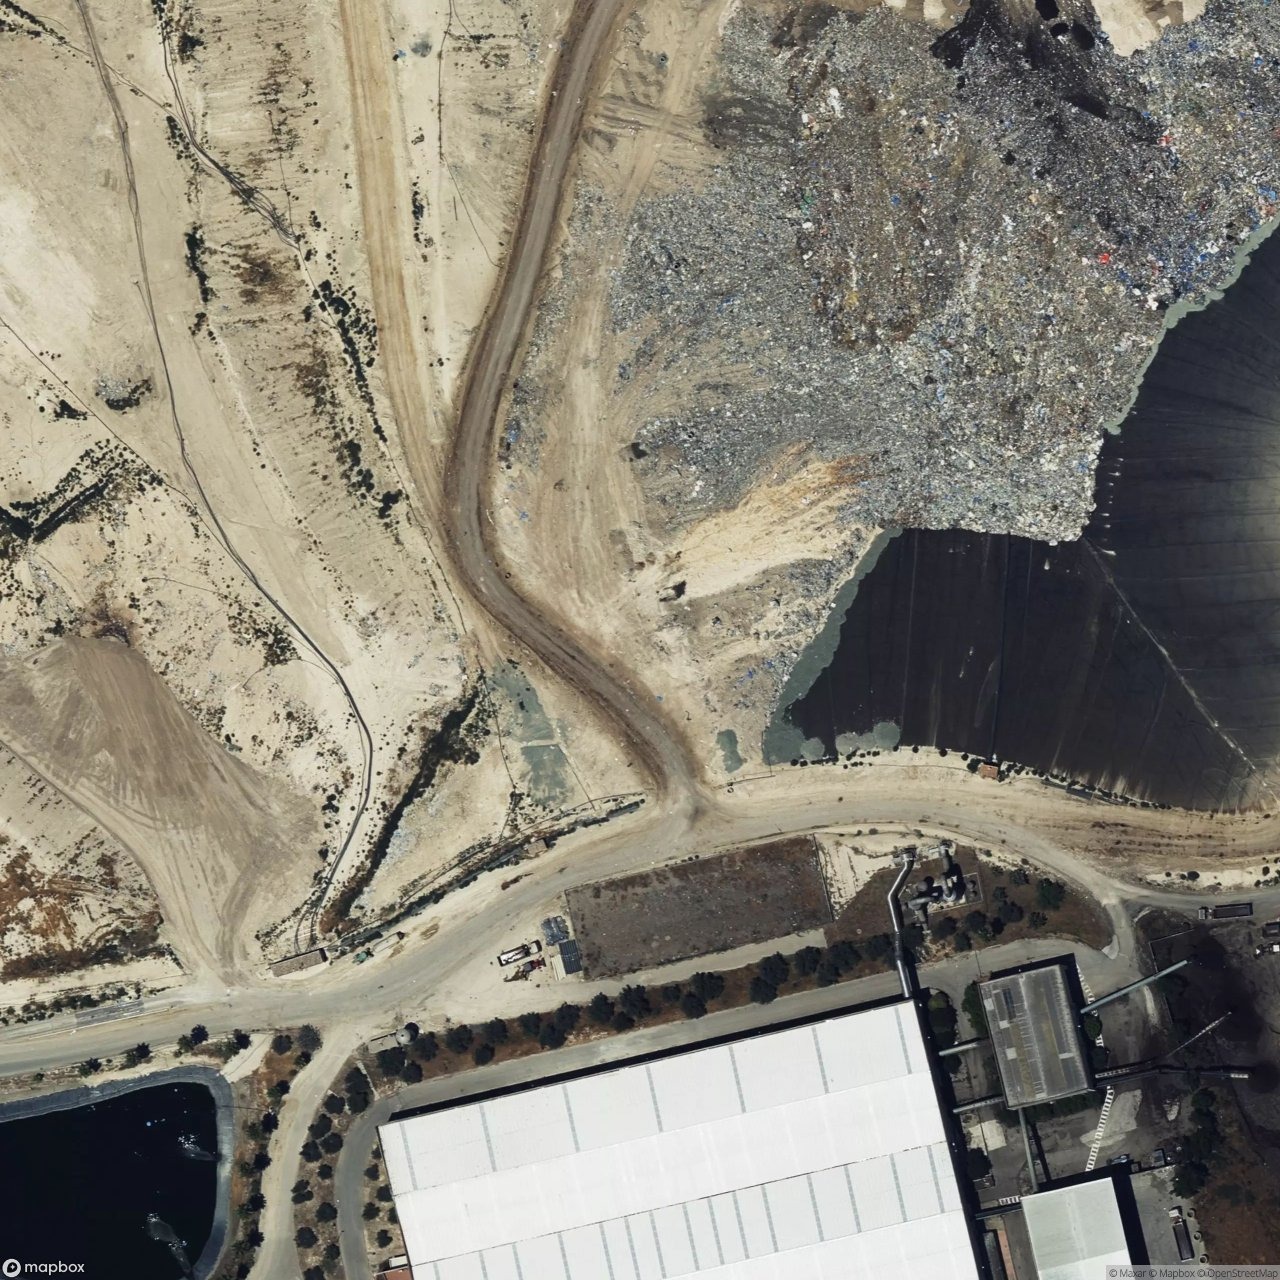dump_site: (578, 0, 1280, 550)
